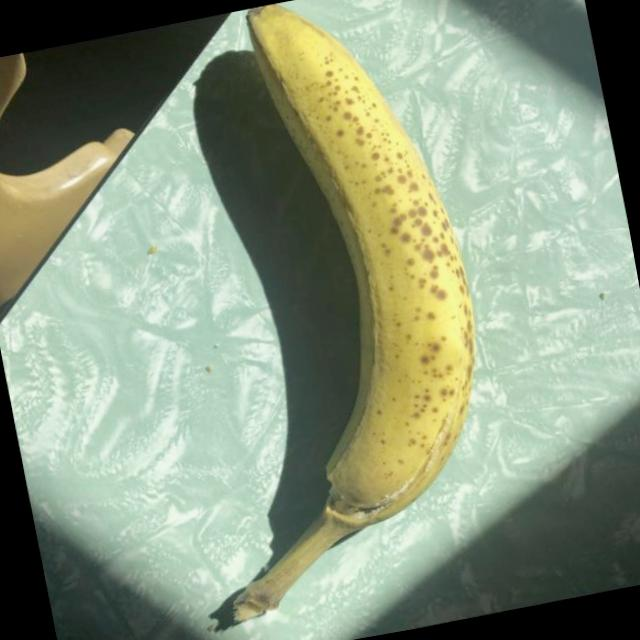Banana: (102, 0, 532, 631)
